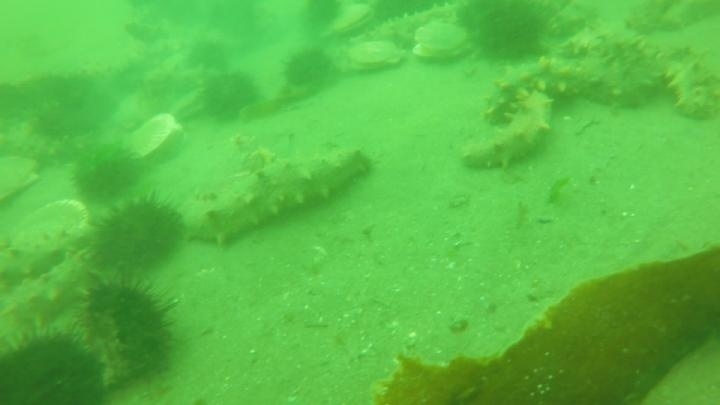echinus: (75, 272, 181, 391), (1, 324, 108, 405), (89, 191, 187, 276), (27, 77, 116, 144), (459, 1, 550, 65), (70, 143, 142, 206), (199, 68, 260, 122), (281, 46, 335, 92), (368, 1, 438, 27), (185, 37, 232, 74), (301, 1, 345, 30)
holothurian: (183, 143, 374, 250), (1, 249, 100, 344), (461, 85, 560, 175), (480, 58, 587, 130), (555, 51, 669, 110), (1, 220, 93, 290), (109, 69, 203, 134), (558, 20, 663, 74), (656, 42, 718, 124), (1, 119, 79, 168), (370, 1, 461, 43), (625, 1, 719, 37), (544, 2, 609, 44)
scallop: (4, 197, 93, 255), (368, 2, 461, 45), (123, 111, 188, 167), (410, 19, 474, 67), (342, 36, 408, 77), (1, 151, 43, 208), (324, 2, 380, 40)
starfish: (225, 131, 273, 175)
